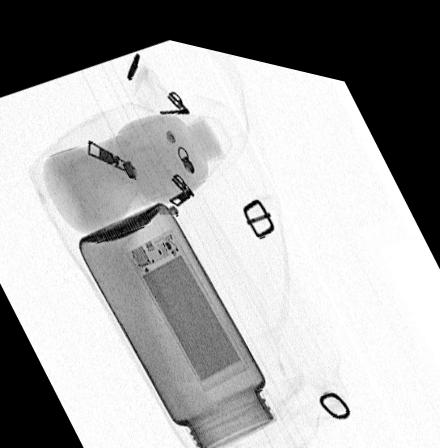Powerbank: (123, 219, 247, 379)
